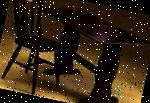Mesa: (21, 0, 149, 102)
Silla: (0, 0, 79, 99)
